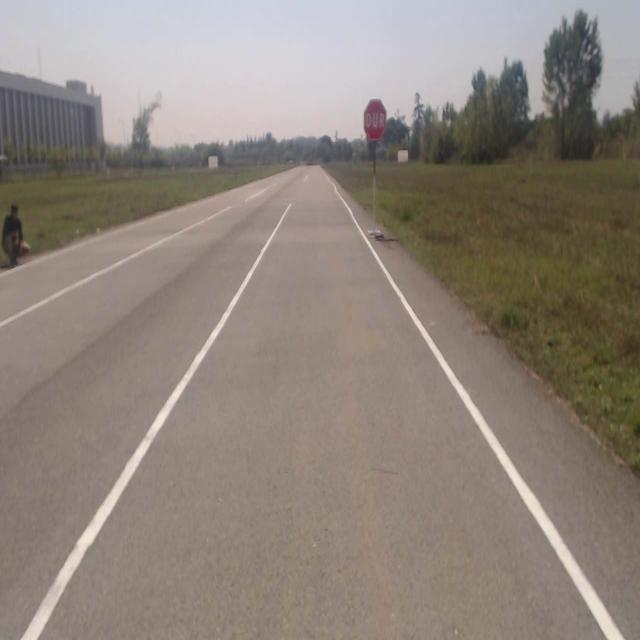dur: (364, 100, 386, 140)
